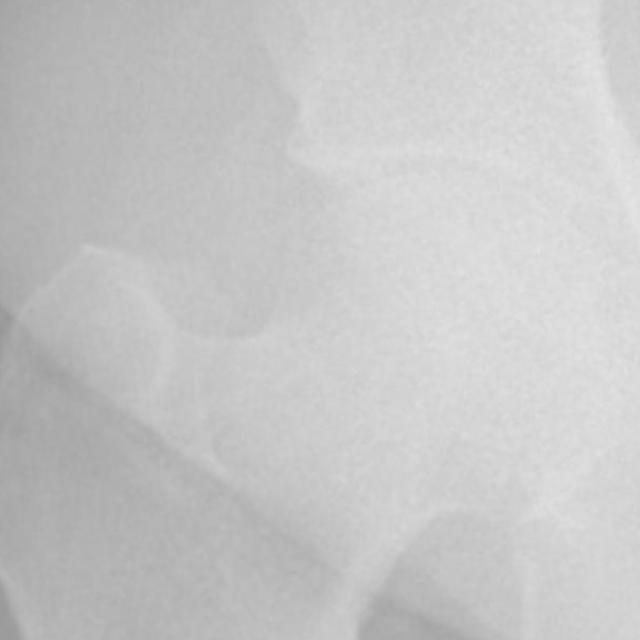Fitted_femural_head: (381, 172, 432, 381)
